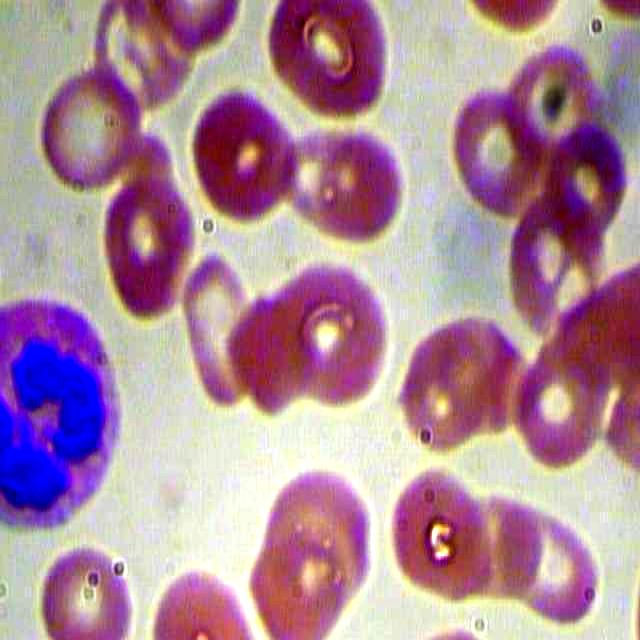RBC: (261, 255, 398, 420), (284, 110, 408, 242), (98, 167, 194, 330), (265, 1, 390, 124), (388, 463, 494, 605), (35, 61, 141, 196), (191, 88, 297, 223), (251, 505, 356, 636), (184, 245, 259, 411), (449, 89, 546, 215), (515, 345, 612, 471), (543, 123, 634, 240), (37, 536, 137, 640)
WBC: (1, 289, 122, 544)
